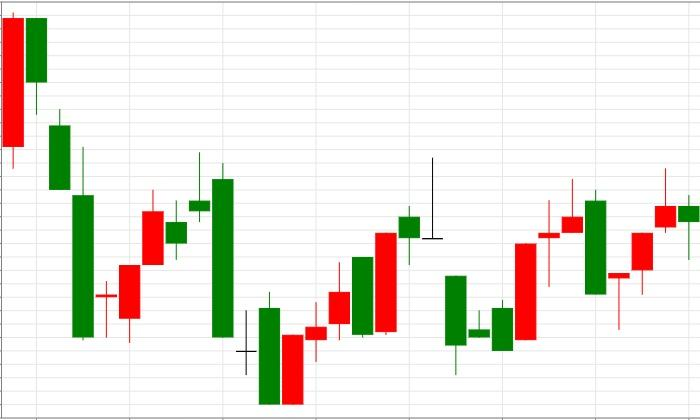shooting_star_fall: (444, 179, 584, 376)
three_white_soldiers_rise: (561, 168, 678, 330)
